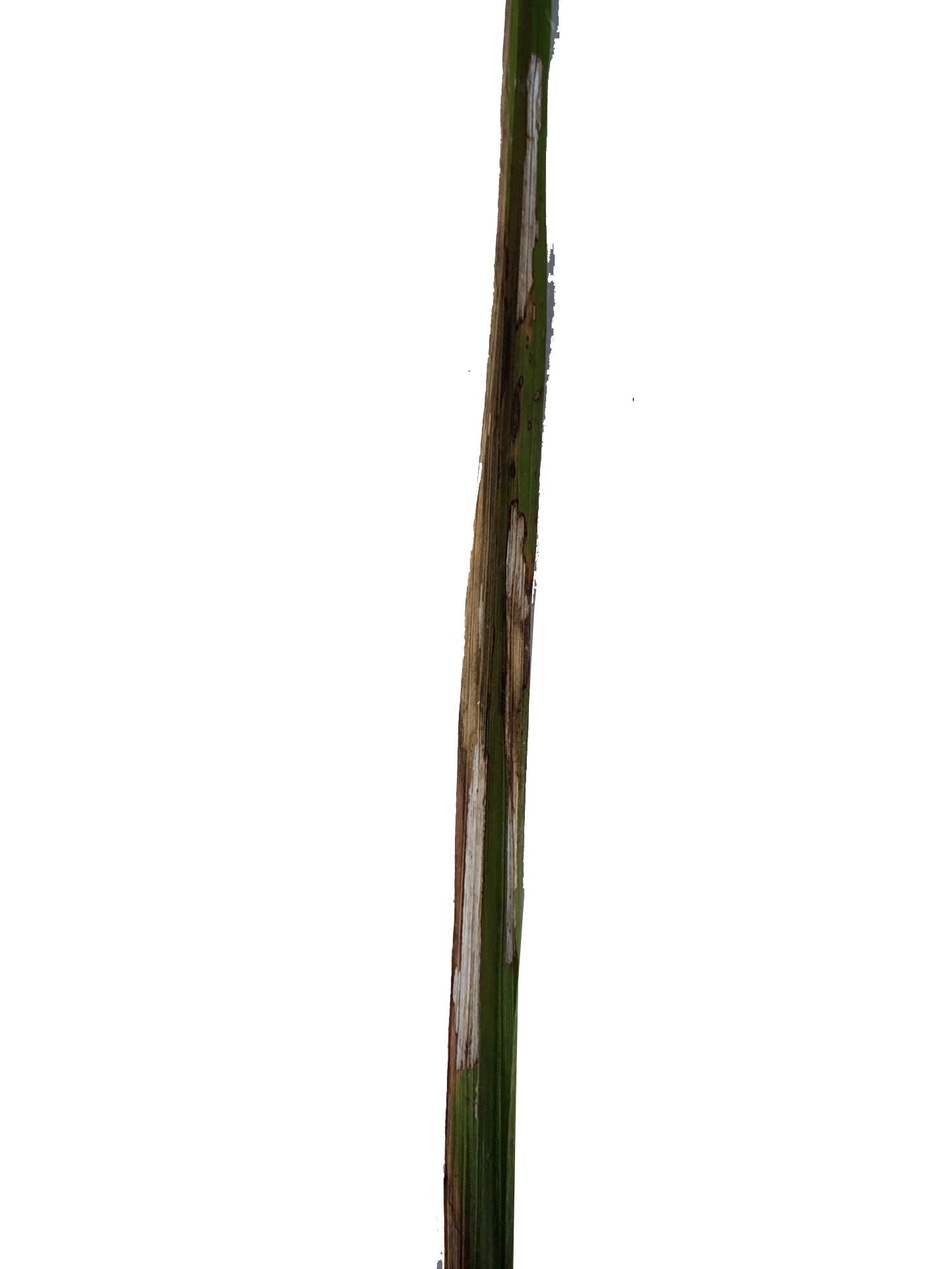Blight: (459, 473, 519, 985), (453, 697, 493, 1252), (512, 3, 562, 373)
